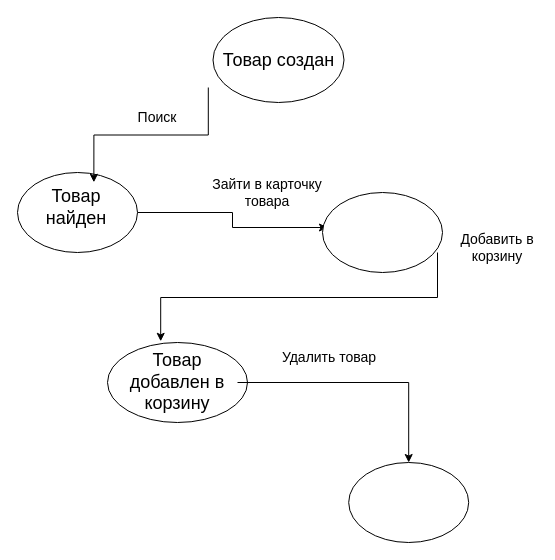
Image size: 555x560. Some labels were removed from this diagram. The box of each missing label's shape, as (x1, y1, x2, y2) in pixels:
Товар просмотрен: (322, 192, 442, 272)
Товар удален из корзины: (348, 462, 469, 542)
